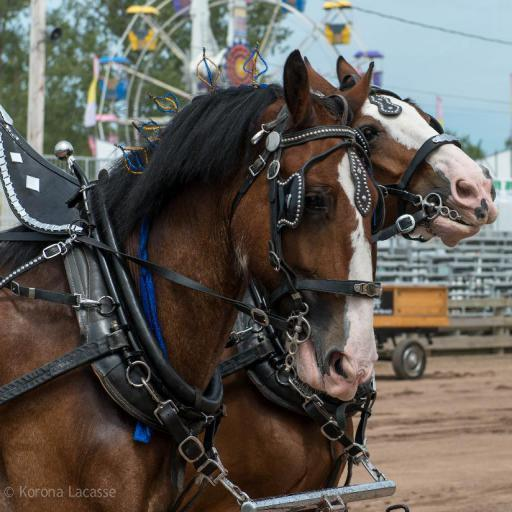horse: (0, 48, 378, 512), (180, 58, 500, 512)
